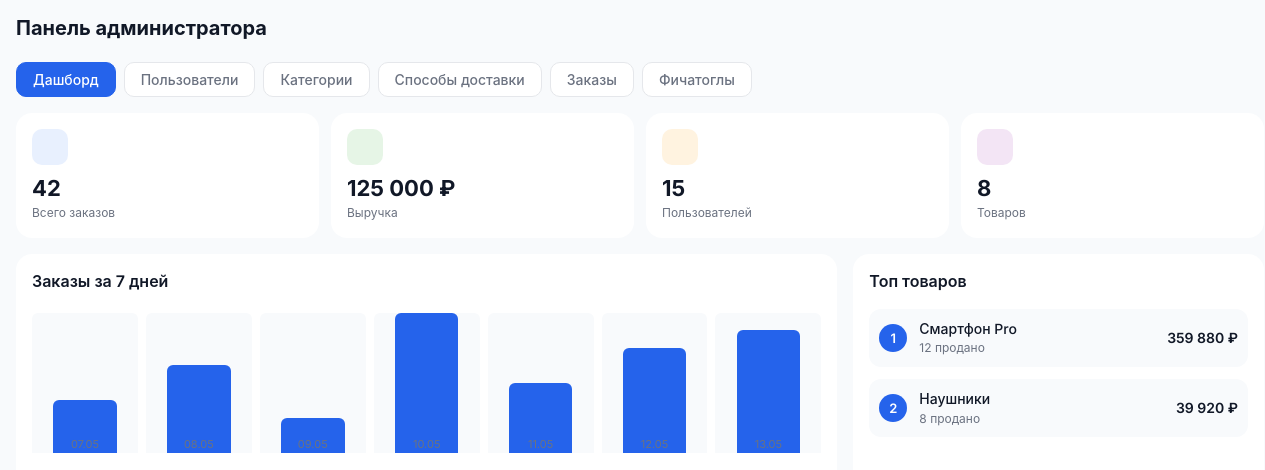
Test: Admin.vue › отображает список пользователей с ролями и статусами
Click the button with test id "admin-section-tab-users". click: (189, 80)
box: [124,62,255,97]
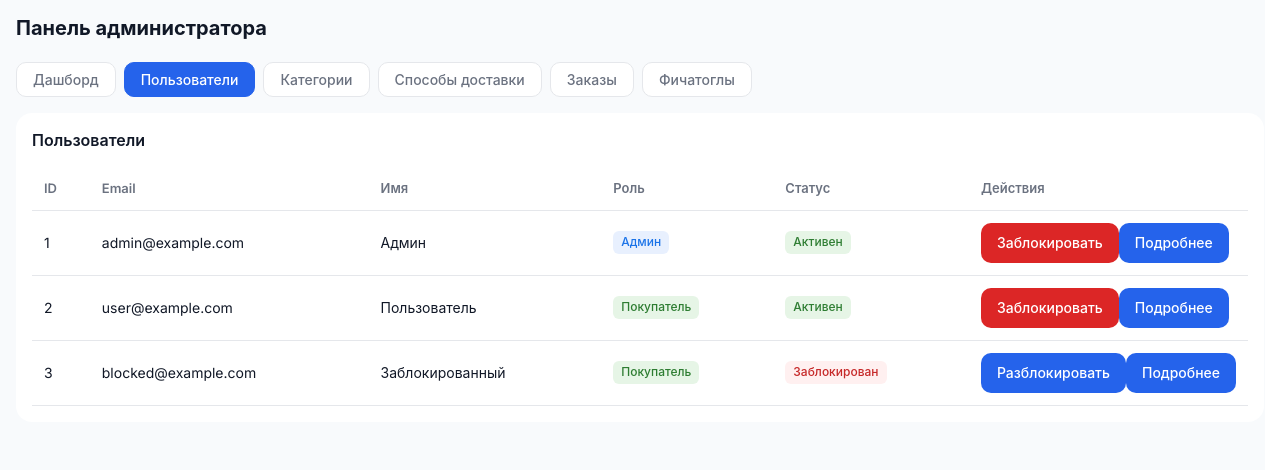
Expected: the text "admin@example.com" is shown, [90,210,368,275]
Expected: the text "user@example.com" is shown, [90,275,368,340]
Expected: the text "Покупатель" is shown, [613,296,699,319]
